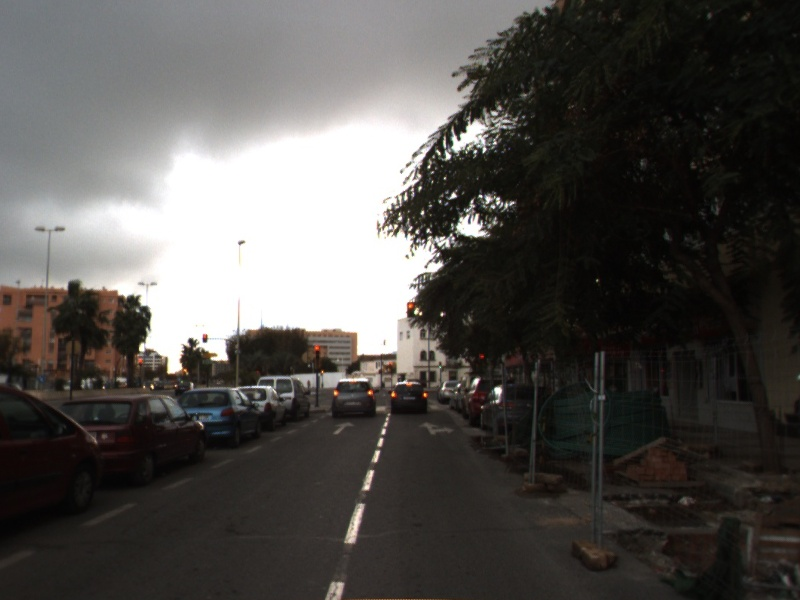STRAIGHT: (331, 420, 356, 436)
STRAIGHT_RIGHT: (417, 420, 457, 436)
